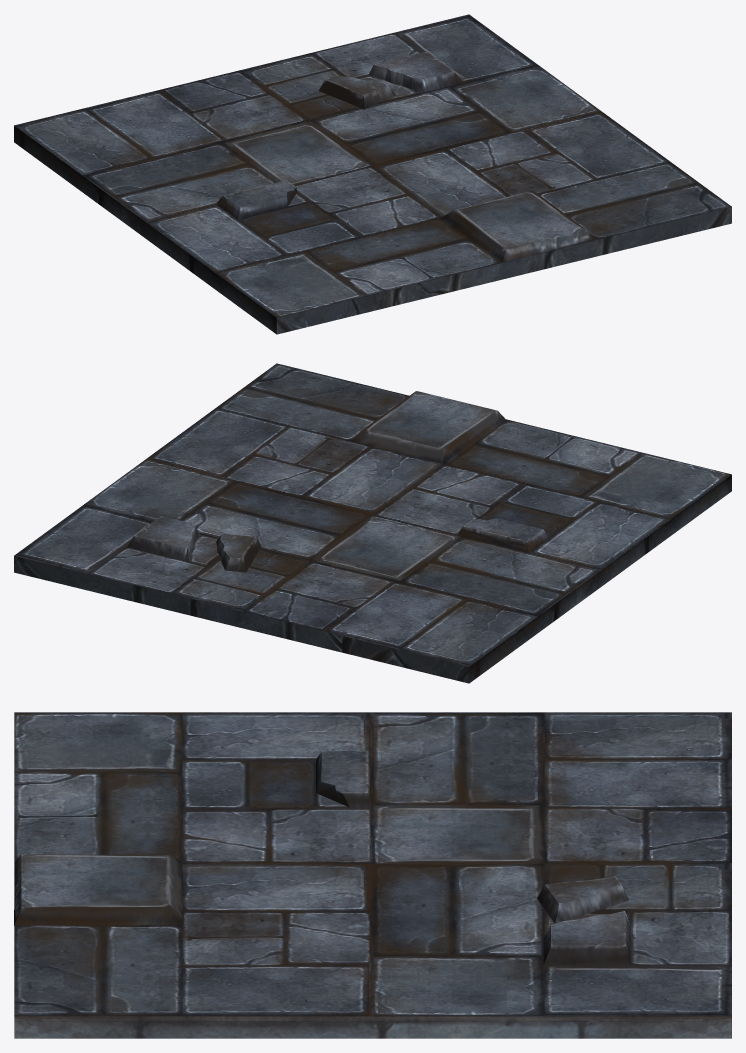
The model's file is B_shitoudimian03.fbx.
3 renders of one model, top to bottom at view 1: azimuth 30°, elevation 25°; view 2: azimuth 150°, elevation 25°; view 3: azimuth 270°, elevation 25°, orthographic. The views are drawn at different scales.
Parts seen in each view (by area): view 1: B_shitoudimian03; view 2: B_shitoudimian03; view 3: B_shitoudimian03.
Part boxes in pixels (<box>): B_shitoudimian03: <box>14,14,731,334</box>; B_shitoudimian03: <box>14,363,731,683</box>; B_shitoudimian03: <box>14,712,731,1038</box>.
Bounding box in the file's own units: 443 × 25.97 × 444.
